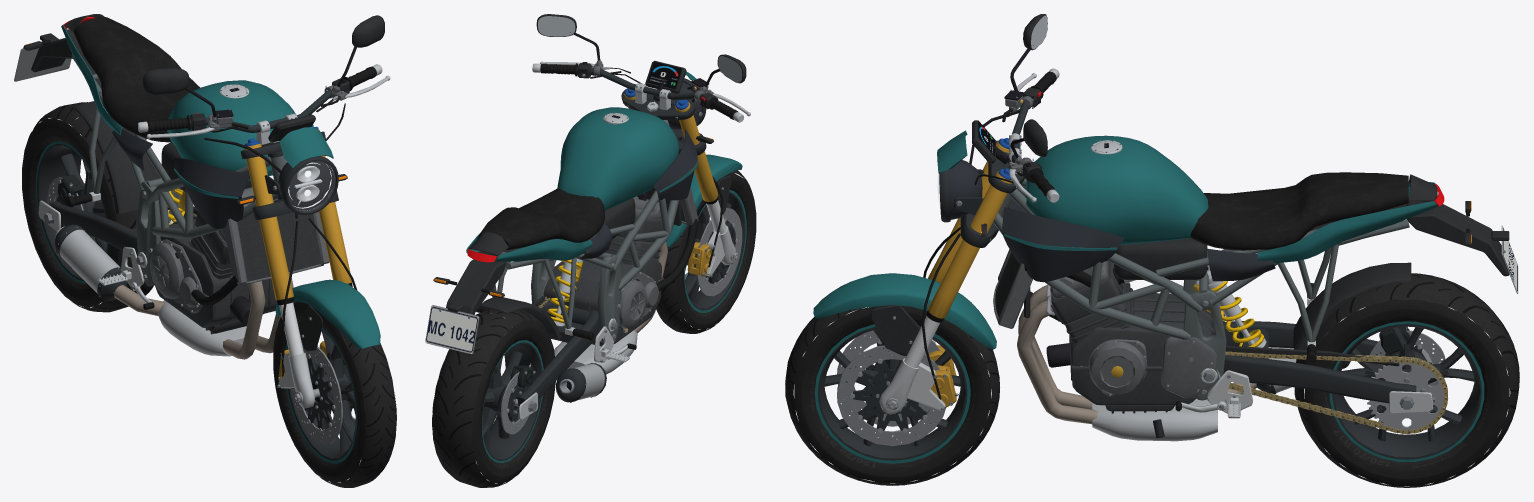
The model's file is street-motorcycle.glb.
3 views of the same model, side by side, from view 1: azimuth 30°, elevation 25°; view 2: azimuth 150°, elevation 25°; view 3: azimuth 270°, elevation 25° (orthographic). The views are drawn at different scales.
Parts seen in each view (by area): view 1: Roadster, steer_F, wheel_F, wheel_R, Swingarm; view 2: Roadster, wheel_R, steer_F, wheel_F, Swingarm, mirror_L, dashboard_screen, mirror_R; view 3: Roadster, wheel_R, wheel_F, steer_F, Swingarm.
Part boxes in pixels (x1=…): Roadster: x1=14, y1=14, x2=329, y2=359; steer_F: x1=138, y1=15, x2=390, y2=408; wheel_F: x1=273, y1=301, x2=396, y2=487; wheel_R: x1=22, y1=102, x2=153, y2=312; Swingarm: x1=38, y1=101, x2=197, y2=256; Roadster: x1=425, y1=107, x2=698, y2=402; wheel_R: x1=432, y1=308, x2=555, y2=487; steer_F: x1=532, y1=14, x2=750, y2=277; wheel_F: x1=656, y1=170, x2=756, y2=333; Swingarm: x1=480, y1=296, x2=599, y2=420; mirror_L: x1=538, y1=16, x2=575, y2=36; dashboard_screen: x1=647, y1=61, x2=682, y2=89; mirror_R: x1=718, y1=56, x2=742, y2=82; Roadster: x1=993, y1=135, x2=1518, y2=441; wheel_R: x1=1294, y1=273, x2=1519, y2=487; wheel_F: x1=785, y1=305, x2=999, y2=485; steer_F: x1=813, y1=14, x2=1059, y2=414; Swingarm: x1=1214, y1=262, x2=1448, y2=434.
Bounding box in the file's own units: 0.8316 × 1.26 × 2.04.
Materials: 18 (10 with a texture image).
